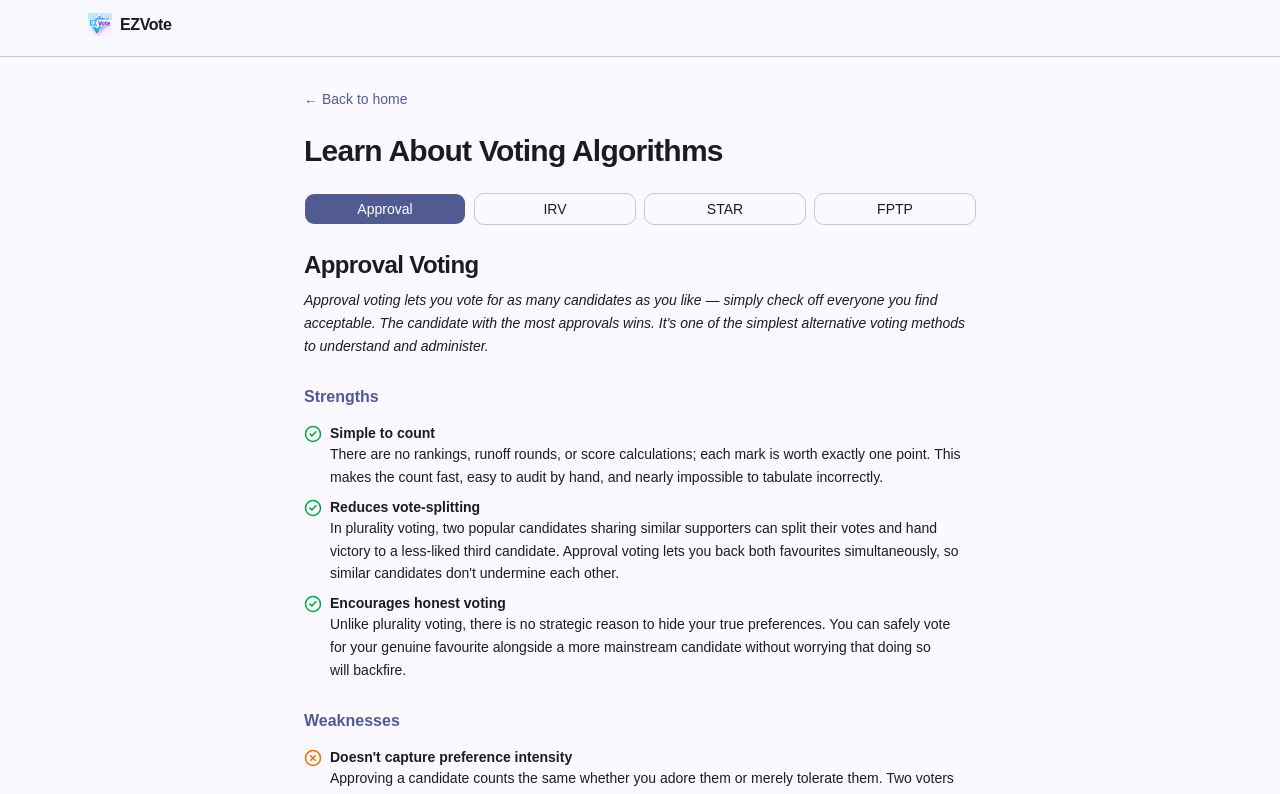
Learn › swaps to the STAR algorithm when the STAR tab is selected
Click the tab "STAR" at x=725, y=209, box [644, 193, 806, 225]
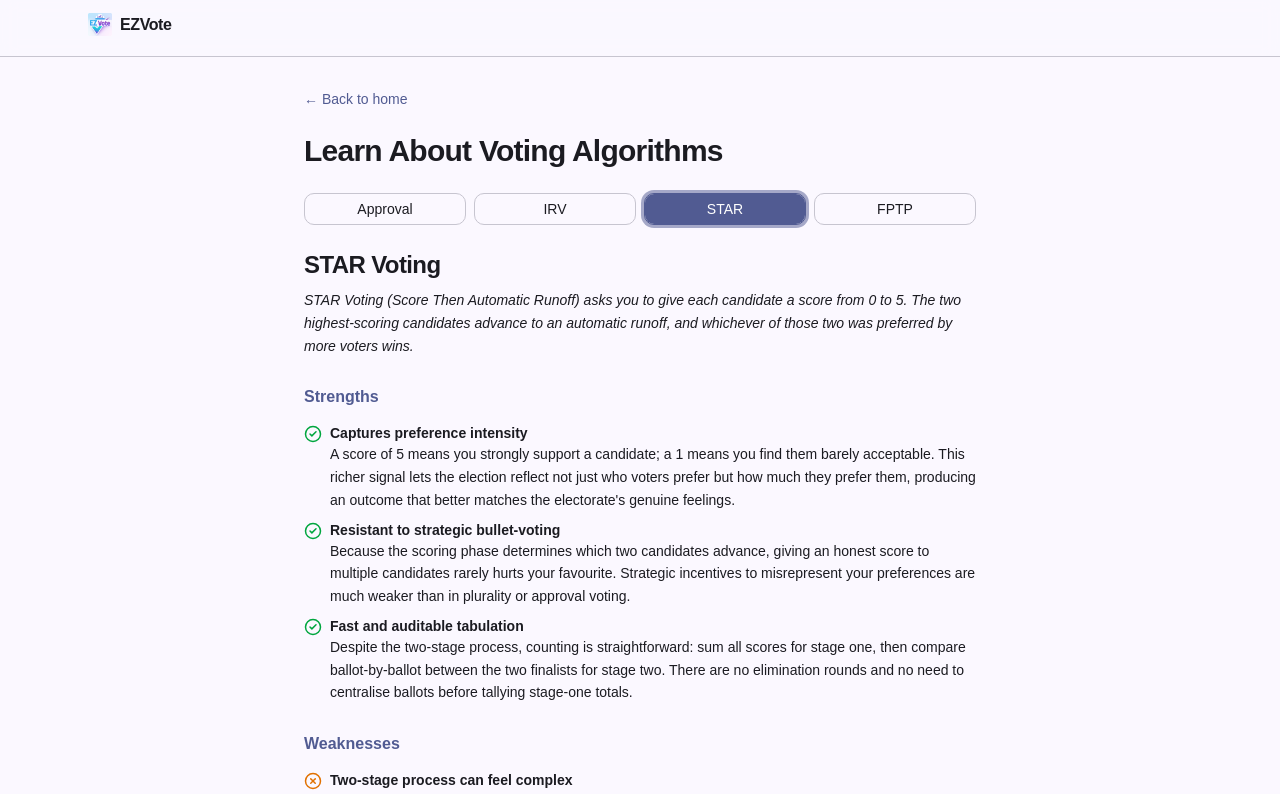
Expected: the heading "Approval Voting" is not shown
Result: the heading "STAR Voting" is shown at [304, 251, 440, 278]
Result: the text "Captures preference intensity" is shown at [330, 425, 528, 441]
